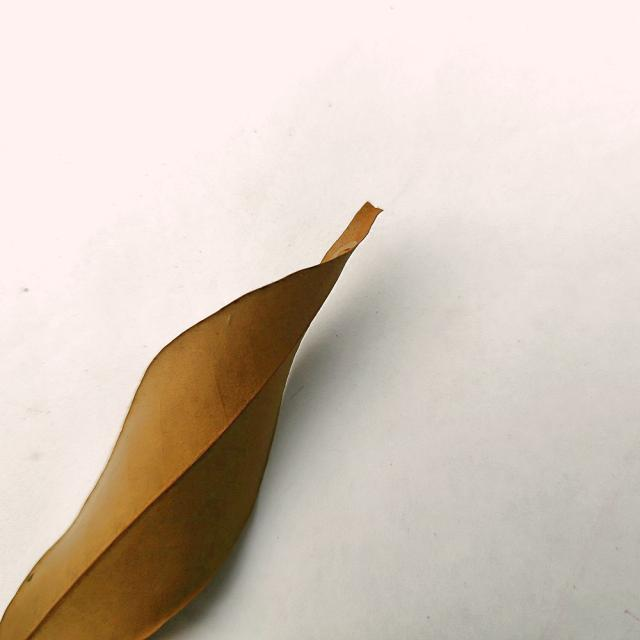Dry_Leaf-Lychee: (0, 205, 381, 639)
